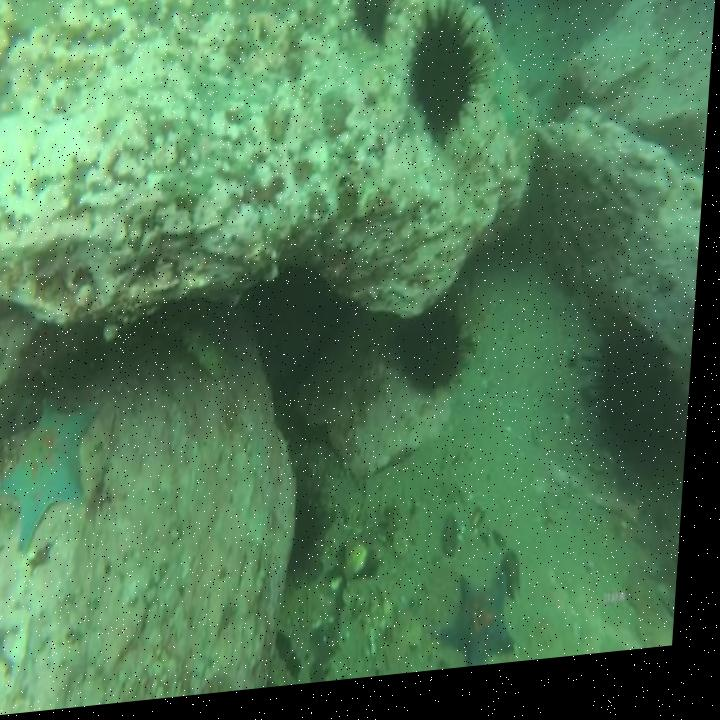echinus: (580, 302, 701, 512), (405, 3, 484, 165), (400, 298, 472, 413), (290, 488, 351, 599), (347, 0, 404, 62)
holothurian: (177, 313, 242, 393)
starfish: (0, 389, 113, 565), (444, 571, 531, 681), (488, 68, 537, 151)
